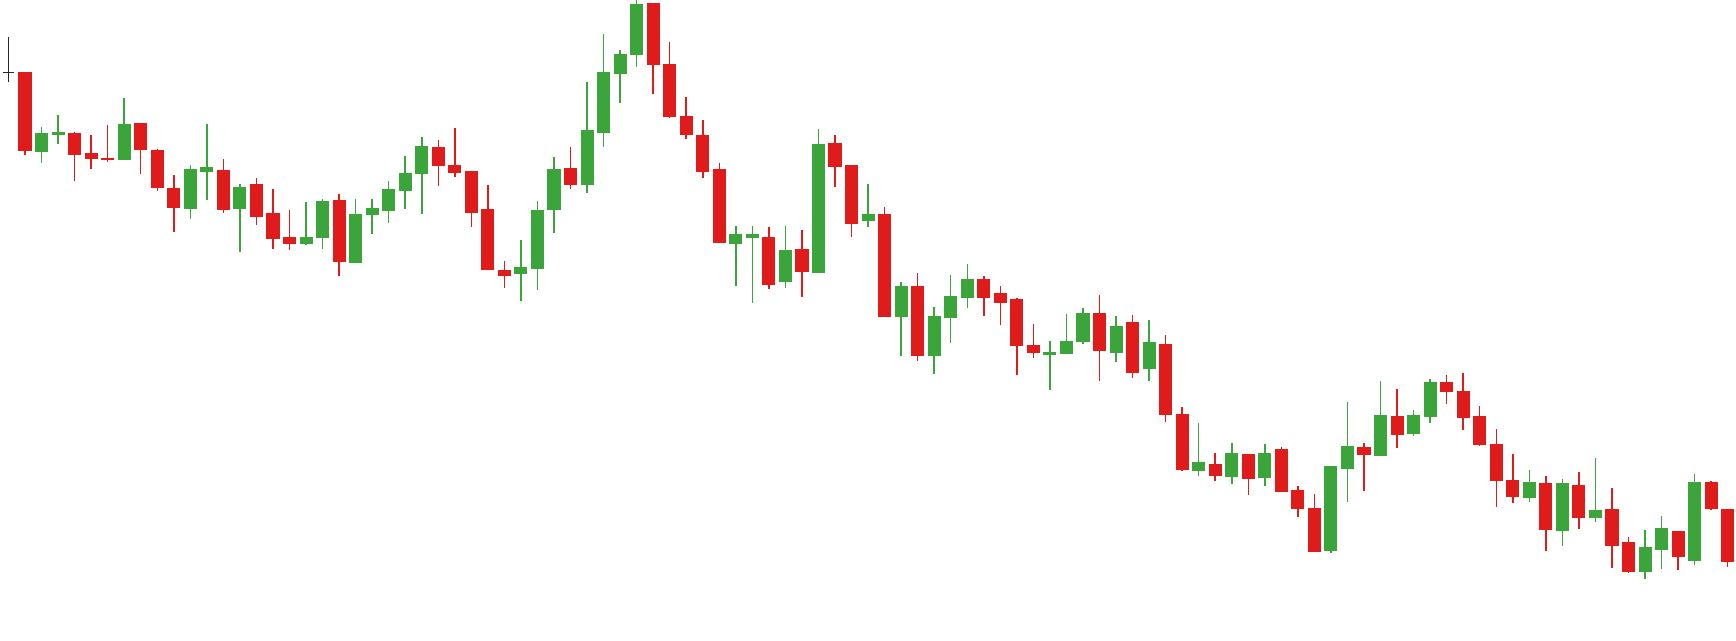buy: (328, 177, 527, 304)
